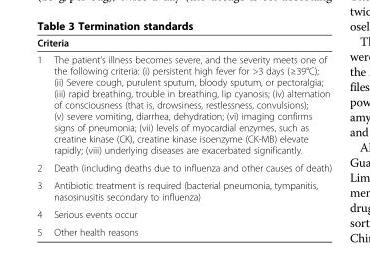table: (36, 36, 331, 237)
table column: (47, 36, 331, 237), (36, 36, 47, 237)
table column header: (36, 36, 331, 158)
table row: (36, 50, 331, 158), (36, 176, 331, 205), (36, 158, 331, 176), (36, 205, 331, 222), (36, 222, 331, 237), (36, 36, 331, 50)
table spanning cell: (36, 36, 331, 50)
